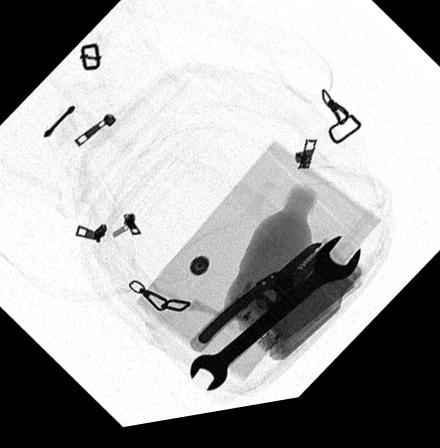Pliers: (195, 250, 327, 374)
Powerbank: (228, 247, 364, 366)
Wrench: (187, 245, 361, 397)
